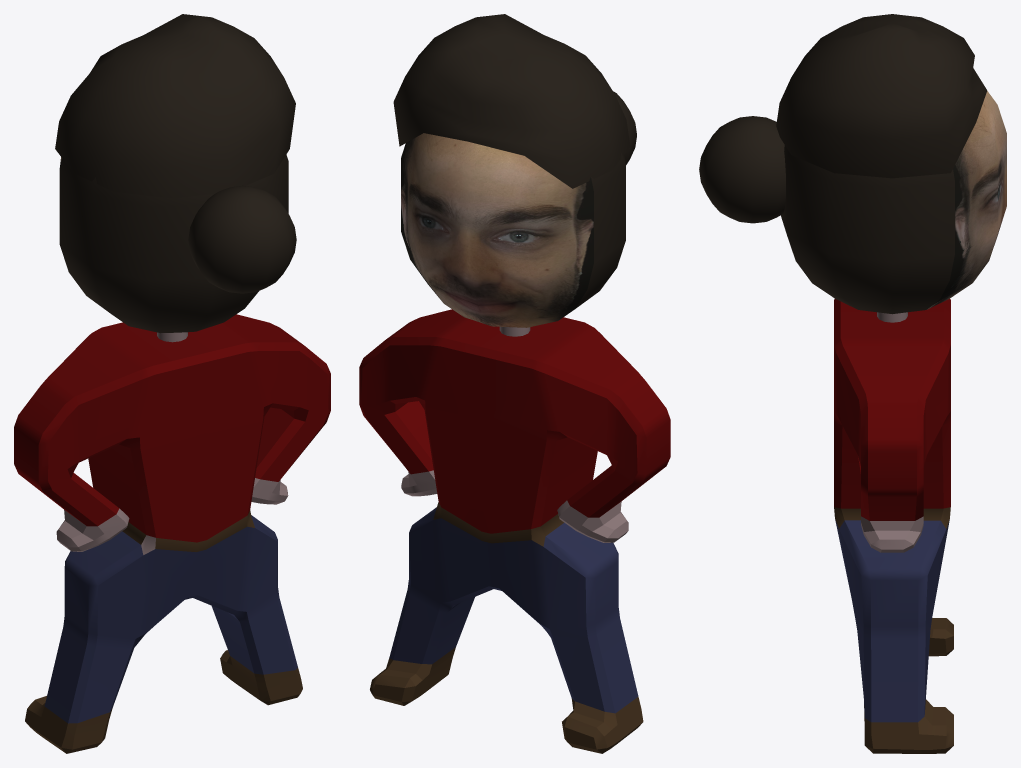
Rendered from Victor.fbx.
3 views of the same model, side by side, from view 1: azimuth 30°, elevation 25°; view 2: azimuth 150°, elevation 25°; view 3: azimuth 270°, elevation 25° (orthographic).
Parts seen in each view (by area): view 1: pCube1, pasted__pSphere2, pSphere1, pSphere2; view 2: pCube1, pSphere1, pasted__pSphere2; view 3: pCube1, pSphere1, pasted__pSphere2, pSphere2.
Boxes of the visible parts, x1=… form: pCube1: x1=14, y1=314, x2=330, y2=753; pasted__pSphere2: x1=55, y1=14, x2=295, y2=198; pSphere1: x1=59, y1=154, x2=288, y2=333; pSphere2: x1=188, y1=185, x2=296, y2=293; pCube1: x1=359, y1=309, x2=670, y2=753; pSphere1: x1=401, y1=133, x2=625, y2=327; pasted__pSphere2: x1=393, y1=14, x2=630, y2=188; pCube1: x1=834, y1=298, x2=953, y2=753; pSphere1: x1=781, y1=91, x2=1006, y2=314; pasted__pSphere2: x1=776, y1=14, x2=987, y2=178; pSphere2: x1=699, y1=116, x2=785, y2=223.
Bounding box in the file's own units: 2.87 × 6.47 × 2.63.
